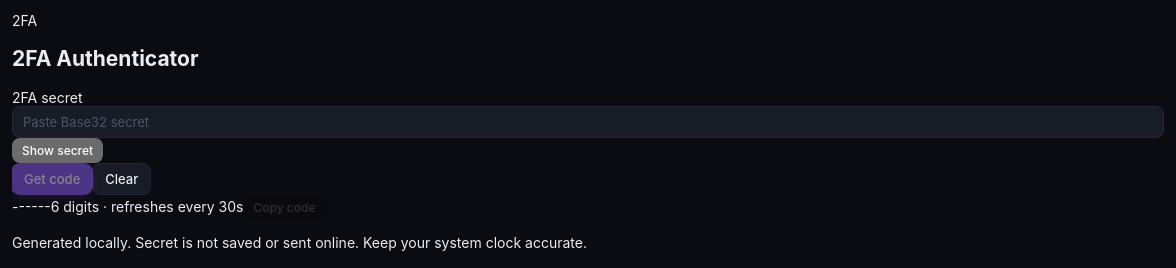
Scenario: retries a code that expires while its IPC response is in flight
The image size is (1176, 268).
Type "JBSWY3DPEHPK3PXP" into the password field labelled "2FA secret". click: (588, 122)
box: [12,106,1164,138]
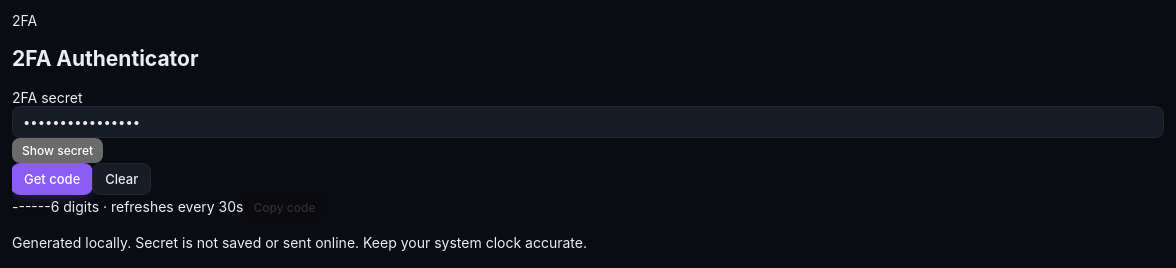
Click the button "Get code". click: (52, 179)
box: [12,164,92,194]
Wait 1250 ms
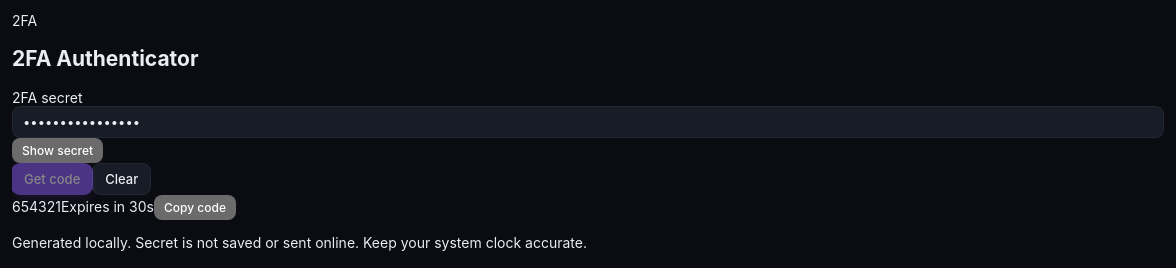
expect the text "654321" is shown: met, box [12,198,61,215]
